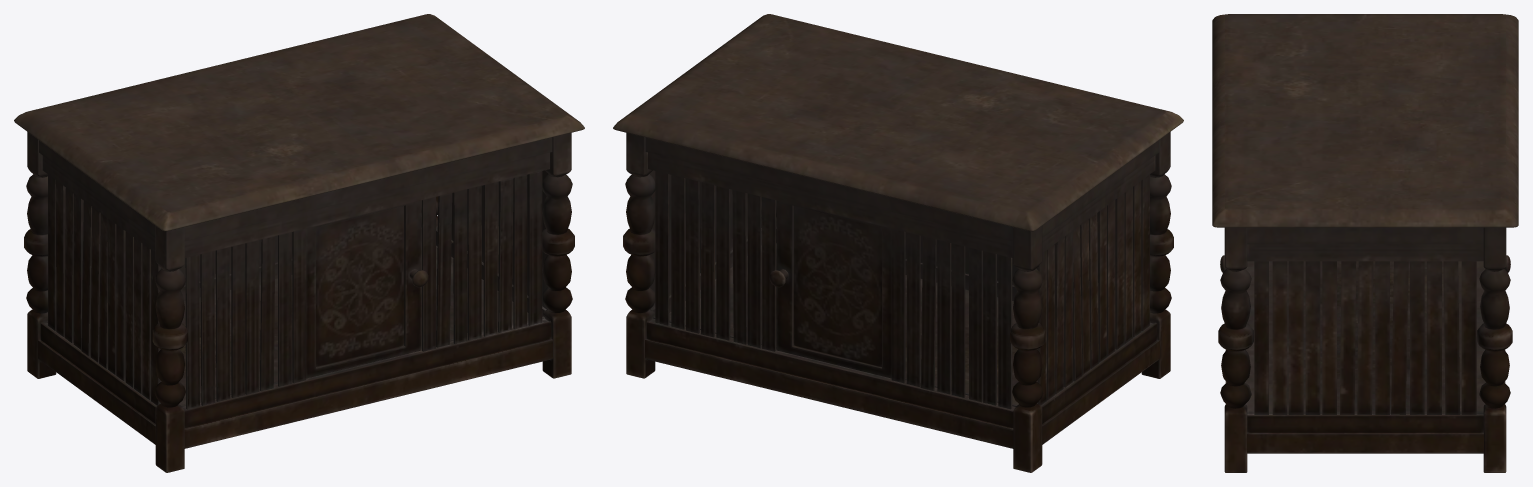
The model's file is gallinera_table_2k_web.glb.
3 views of the same model, side by side, from view 1: azimuth 30°, elevation 25°; view 2: azimuth 150°, elevation 25°; view 3: azimuth 270°, elevation 25° (orthographic).
Visible parts, largest first — view 1: gallinera_table, gallinera_table_door_a; view 2: gallinera_table, gallinera_table_door_b; view 3: gallinera_table.
Boxes of the visible parts, left/top/right/bottom form: gallinera_table: left=14, top=14, right=584, bottom=472; gallinera_table_door_a: left=306, top=200, right=428, bottom=378; gallinera_table: left=613, top=14, right=1183, bottom=472; gallinera_table_door_b: left=769, top=200, right=891, bottom=378; gallinera_table: left=1212, top=14, right=1518, bottom=472.
Bounding box in the file's own units: 0.8301 × 0.4878 × 0.5183.
Materials: 1 (1 with a texture image).
